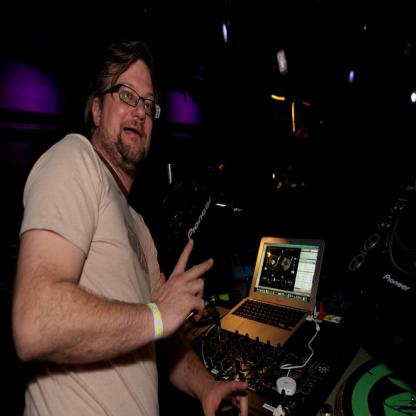board: (220, 236, 325, 348)
